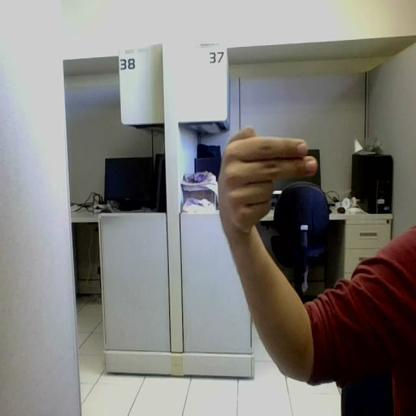H: (219, 126, 317, 232)
